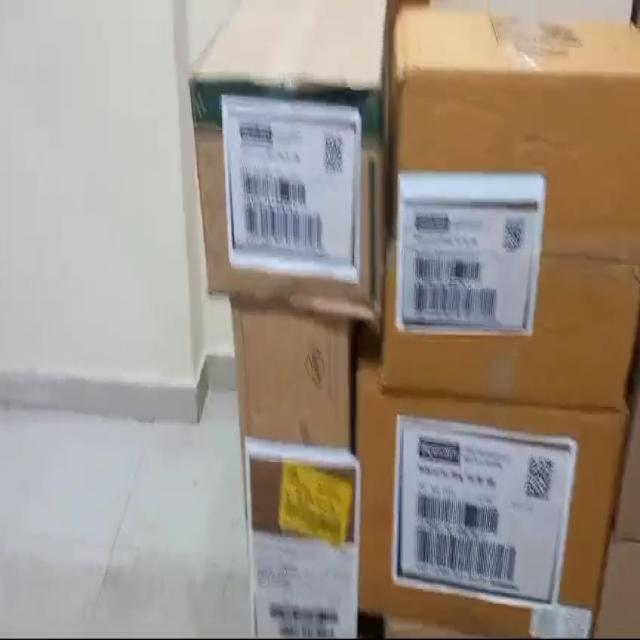BoxFace: (392, 52, 640, 410), (356, 365, 629, 640), (182, 69, 380, 326), (230, 301, 353, 640)
